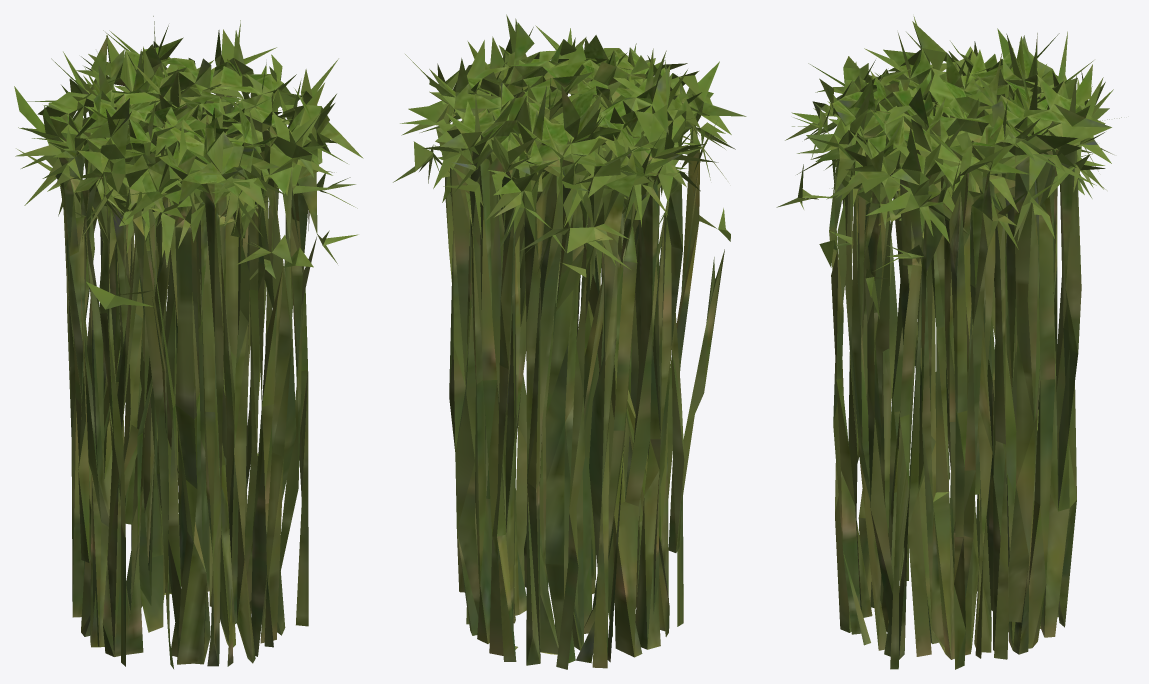
The model's file is scene_bamboo.glb.
3 renders of one model, left to right at view 1: azimuth 30°, elevation 25°; view 2: azimuth 150°, elevation 25°; view 3: azimuth 270°, elevation 25°, orthographic.
Size of the model in its own units: 1.12 by 1.92 by 1.09.
1 material, 1 textured.
